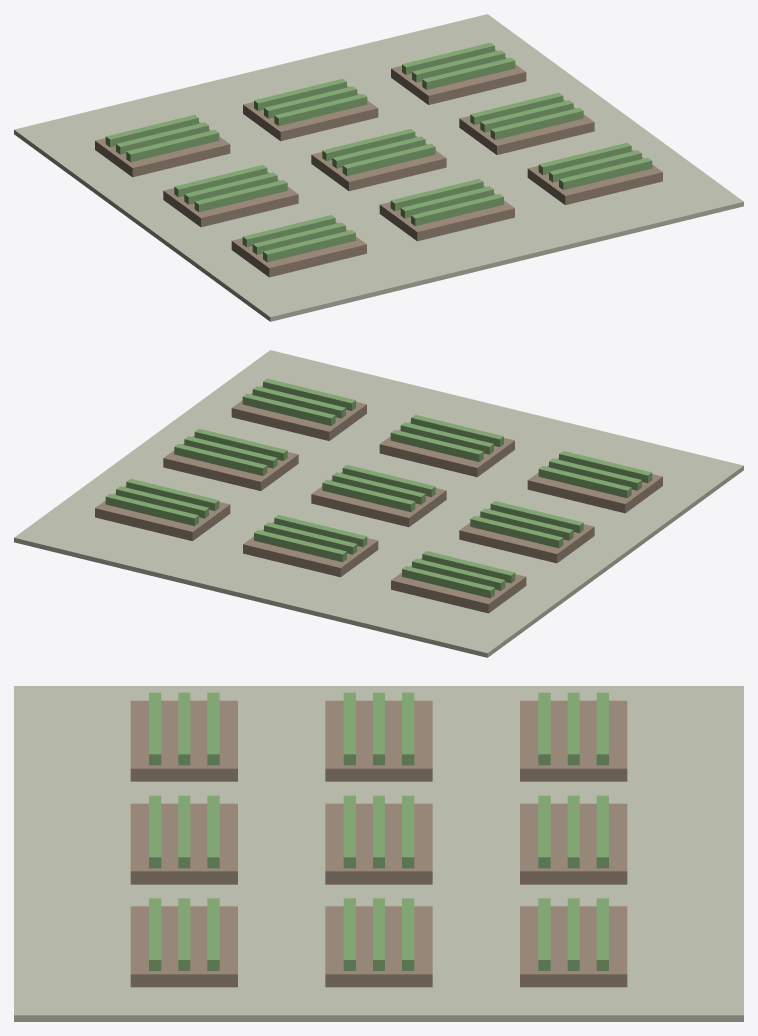
Rendered from 16_parks_greenery-08.glb.
The picture shows the model from 3 angles, top to bottom: view 1: azimuth 30°, elevation 25°; view 2: azimuth 150°, elevation 25°; view 3: azimuth 270°, elevation 25°; orthographic projection. The views are drawn at different scales.
Size of the model in its own units: 16 by 0.7 by 15.
